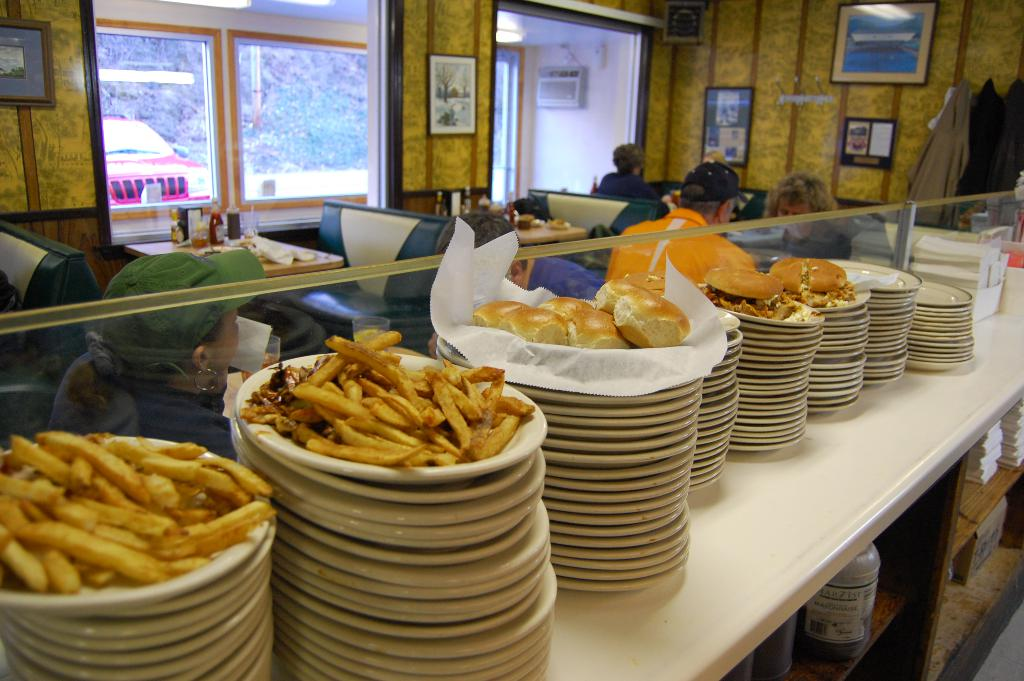French fries: (0, 424, 282, 600), (245, 329, 535, 465)
